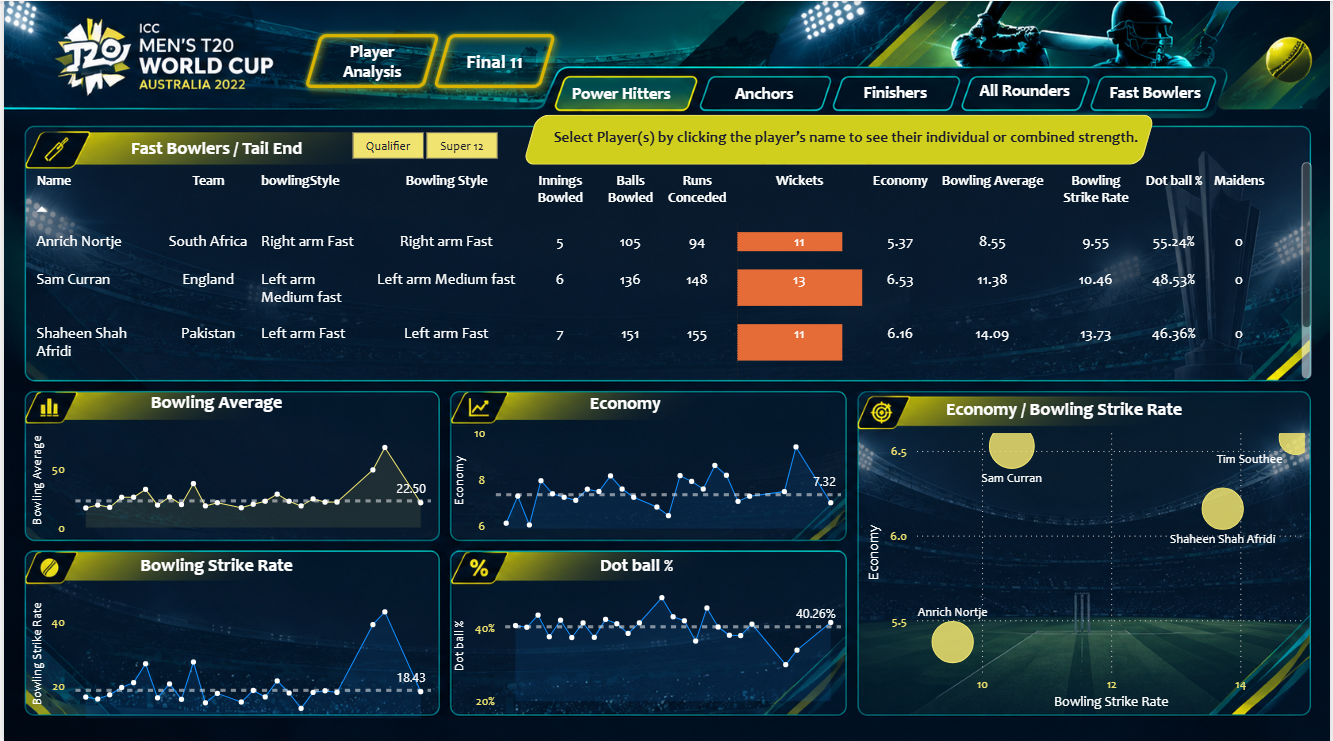

The page's visual inventory and layout, read from the dashboard file:
{"tool":"powerbi","page":{"name":"Fast Bowlers","canvas":[1280,720],"ordinal":4},"visuals":[{"type":"shape","box":[75,124.4,260.6,33.8],"z":0,"group":"g1"},{"type":"group","id":"g1","title":"Group 2","box":[75,124.4,260.6,33.8],"z":0,"group":"g7"},{"type":"group","id":"g2","title":"Group 2","box":[74.8,369.2,260.6,33.8],"z":0,"group":"g9"},{"type":"shape","box":[74.8,369.2,260.6,33.8],"z":0,"group":"g2"},{"type":"shape","box":[480.2,370.4,238.9,33.8],"z":0,"group":"g3"},{"type":"group","id":"g3","title":"Group 2","box":[480.2,370.4,238.9,33.8],"z":0,"group":"g11"},{"type":"shape","box":[872,374.3,301.6,39.8],"z":0,"group":"g4"},{"type":"group","id":"g4","title":"Group 2","box":[872,374.3,301.6,39.8],"z":0,"group":"g13"},{"type":"shape","box":[75,530.4,260.6,26.5],"z":0,"group":"g5"},{"type":"group","id":"g5","title":"Group 2","box":[75,530.4,260.6,26.5],"z":0,"group":"g10"},{"type":"group","id":"g6","title":"Group 2","box":[480,531,260.6,26.5],"z":0,"group":"g12"},{"type":"shape","box":[480,531,260.6,26.5],"z":0,"group":"g6"},{"type":"shape","box":[20.5,413.8,792.6,284.7],"z":1000},{"type":"actionButton","title":"Button Anchores","box":[678,66.4,111,42],"z":2000},{"type":"actionButton","title":"Button  Power Hitters","box":[523.6,66.4,144,42],"z":3000},{"type":"card","fields":{"Values":["Key_Measures.Bowling Strike Rate"]},"box":[781.8,101.3,93,64.8],"z":3500,"group":"g8"},{"type":"actionButton","title":"Button Finishers","box":[802.3,65.1,115.8,42.2],"z":4000},{"type":"card","fields":{"Values":["Key_Measures.Bowling Average"]},"box":[682.8,101.3,92,64.8],"z":4000,"group":"g8"},{"type":"card","fields":{"Values":["Key_Measures.Dot ball %"]},"box":[987.8,101.3,100,64.8],"z":4500,"group":"g8"},{"type":"actionButton","title":"Button All Rounders","box":[918.1,63.9,133.9,42.2],"z":5000},{"type":"card","fields":{"Values":["Key_Measures.Economy"]},"box":[880.8,101.3,101,64.8],"z":5000,"group":"g8"},{"type":"actionButton","title":"Button Fast Bowler selected","box":[1025.5,65.1,171,42],"z":6000},{"type":"shape","box":[838.5,413.8,397,284],"z":9000},{"type":"shape","box":[20.5,119.4,922.9,240.1],"z":10000},{"type":"slicer","fields":{"Values":["dim_match_summary.stage"]},"box":[310.1,119.4,190.6,38.6],"z":11000},{"type":"tableEx","fields":{"Values":["dim_player.name","Min(dim_player.team)","dim_player.bowlingStyle","Min(dim_player.Bowling Style)","Key_Measures.Total Innings Bowled","Key_Measures.Balls Bowled","Key_Measures.Runs Conceded","Key_Measures.wickets","Key_Measures.Economy","Key_Measures.Bowling Average","Key_Measures.Bowling Strike Rate","Key_Measures.Dot ball %"]},"box":[20.5,150.8,1246.3,218.4],"z":12000},{"type":"shape","box":[500.7,109.8,610.5,48.3],"z":13000},{"type":"group","id":"g7","title":"Group 1","box":[75,124.4,260.6,33.8],"z":15000},{"type":"scatterChart","fields":{"Category":["dim_player.name"],"Size":["Key_Measures.wickets"],"X":["Key_Measures.Bowling Strike Rate"],"Y":["Key_Measures.Economy"]},"box":[828.8,404.2,437.9,284.7],"z":16000},{"type":"actionButton","title":"Button Player Ana selected","box":[281.1,22.9,148.4,70],"z":17000},{"type":"actionButton","title":"Button Player Ana selected","box":[405.4,22.9,136.3,70],"z":18000},{"type":"areaChart","fields":{"Category":["dim_match_summary.Match_Date.Variation.Date Hierarchy.Day"],"Y":["Key_Measures.Economy"]},"box":[429.5,403,383.6,119.4],"z":19000},{"type":"areaChart","fields":{"Category":["dim_match_summary.Match_Date.Variation.Date Hierarchy.Day"],"Y":["Key_Measures.Dot ball %"]},"box":[429.5,556.2,383.6,132.7],"z":20000},{"type":"areaChart","fields":{"Category":["dim_match_summary.Match_Date.Variation.Date Hierarchy.Day"],"Y":["Key_Measures.Bowling Average"]},"box":[21.7,403,395.7,119.4],"z":21000},{"type":"areaChart","fields":{"Category":["dim_match_summary.Match_Date.Variation.Date Hierarchy.Day"],"Y":["Key_Measures.Bowling Strike Rate"]},"box":[21.7,555,395.7,142.4],"z":22000},{"type":"shape","box":[510.3,117,173,34],"z":25000},{"type":"group","id":"g8","title":"Combined Perfoamce Metrices","box":[682.8,101.3,404.2,65.1],"z":25500},{"type":"shape","box":[523.6,106.2,577.9,51.9],"z":26001},{"type":"group","id":"g9","title":"Group 1","box":[74.8,369.2,260.6,33.8],"z":26002},{"type":"group","id":"g10","title":"Group 1","box":[75,530.4,260.6,26.5],"z":26003},{"type":"group","id":"g11","title":"Group 1","box":[480.2,370.4,238.9,33.8],"z":26004},{"type":"group","id":"g12","title":"Group 1","box":[480,531,260.6,26.5],"z":26005},{"type":"group","id":"g13","title":"Group 1","box":[872,374.3,301.6,39.8],"z":26006}]}

Visuals, with their boxes in screenshot pixels (x1, y1, x2, y2), scaled from the page's 1280x720 canvas onto the 1333x741 screenshot:
shape: Rect(78, 128, 349, 163)
"Group 2" group: Rect(78, 128, 349, 163)
"Group 2" group: Rect(78, 380, 349, 415)
shape: Rect(78, 380, 349, 415)
shape: Rect(500, 381, 749, 416)
"Group 2" group: Rect(500, 381, 749, 416)
shape: Rect(908, 385, 1222, 426)
"Group 2" group: Rect(908, 385, 1222, 426)
shape: Rect(78, 546, 349, 573)
"Group 2" group: Rect(78, 546, 349, 573)
"Group 2" group: Rect(500, 546, 771, 574)
shape: Rect(500, 546, 771, 574)
shape: Rect(21, 426, 847, 719)
"Button Anchores" actionButton: Rect(706, 68, 822, 112)
"Button  Power Hitters" actionButton: Rect(545, 68, 695, 112)
card - Key_Measures.Bowling Strike Rate: Rect(814, 104, 911, 171)
"Button Finishers" actionButton: Rect(836, 67, 956, 110)
card - Key_Measures.Bowling Average: Rect(711, 104, 807, 171)
card - Key_Measures.Dot ball %: Rect(1029, 104, 1133, 171)
"Button All Rounders" actionButton: Rect(956, 66, 1096, 109)
card - Key_Measures.Economy: Rect(917, 104, 1022, 171)
"Button Fast Bowler selected" actionButton: Rect(1068, 67, 1246, 110)
shape: Rect(873, 426, 1287, 718)
shape: Rect(21, 123, 982, 370)
slicer - dim_match_summary.stage: Rect(323, 123, 521, 163)
tableEx - dim_player.name x Min(dim_player.team): Rect(21, 155, 1319, 380)
shape: Rect(521, 113, 1157, 163)
"Group 1" group: Rect(78, 128, 349, 163)
scatterChart - dim_player.name x Key_Measures.wickets: Rect(863, 416, 1319, 709)
"Button Player Ana selected" actionButton: Rect(293, 24, 447, 96)
"Button Player Ana selected" actionButton: Rect(422, 24, 564, 96)
areaChart - dim_match_summary.Match_Date.Variation.Date Hierarchy.Day x Key_Measures.Economy: Rect(447, 415, 847, 538)
areaChart - dim_match_summary.Match_Date.Variation.Date Hierarchy.Day x Key_Measures.Dot ball %: Rect(447, 572, 847, 709)
areaChart - dim_match_summary.Match_Date.Variation.Date Hierarchy.Day x Key_Measures.Bowling Average: Rect(23, 415, 435, 538)
areaChart - dim_match_summary.Match_Date.Variation.Date Hierarchy.Day x Key_Measures.Bowling Strike Rate: Rect(23, 571, 435, 718)
shape: Rect(531, 120, 712, 155)
"Combined Perfoamce Metrices" group: Rect(711, 104, 1132, 171)
shape: Rect(545, 109, 1147, 163)
"Group 1" group: Rect(78, 380, 349, 415)
"Group 1" group: Rect(78, 546, 349, 573)
"Group 1" group: Rect(500, 381, 749, 416)
"Group 1" group: Rect(500, 546, 771, 574)
"Group 1" group: Rect(908, 385, 1222, 426)
